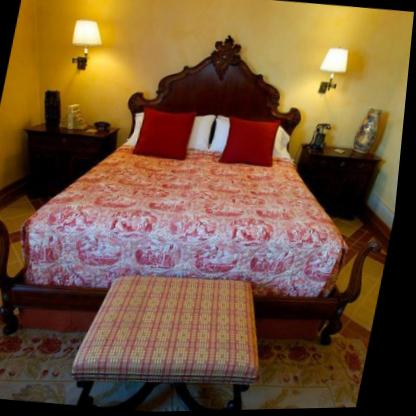Bed: (0, 12, 415, 370)
Carpet: (245, 322, 378, 411)
